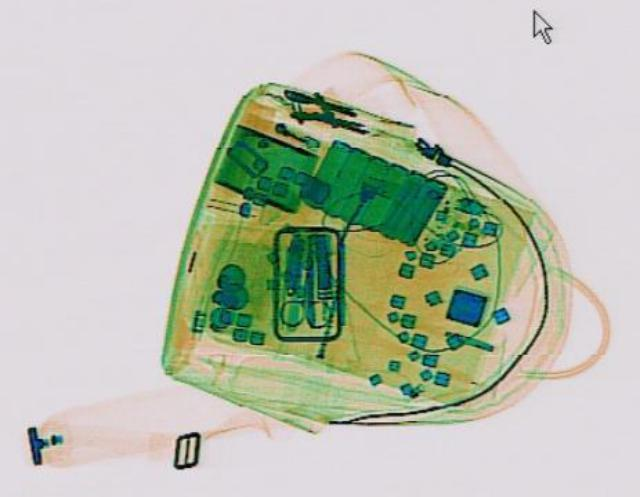Scissors: (276, 243, 336, 326)
